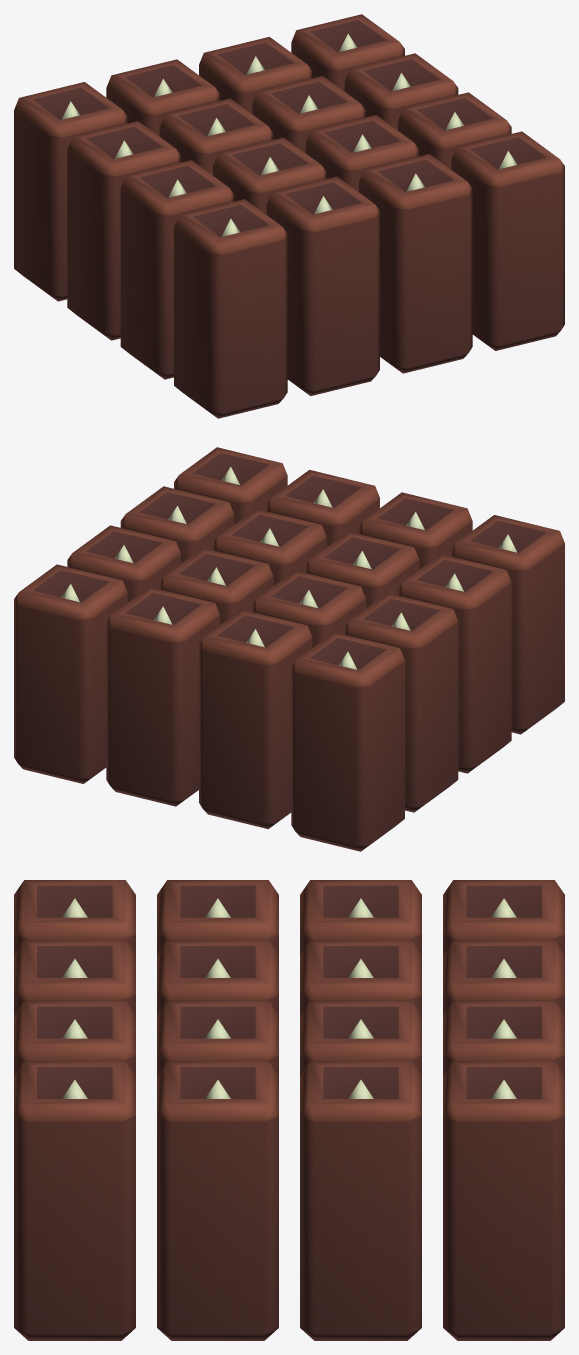
The model's file is spike_trap.fbx.
The picture shows the model from 3 angles, top to bottom: view 1: azimuth 30°, elevation 25°; view 2: azimuth 150°, elevation 25°; view 3: azimuth 270°, elevation 25°; orthographic projection. The views are drawn at different scales.
Visible parts, largest first — view 1: spike_trap, spikes; view 2: spike_trap, spikes; view 3: spike_trap, spikes.
Part boxes in pixels (x1,y1,x2,y2): spike_trap: [14, 14, 564, 418]; spikes: [61, 34, 517, 236]; spike_trap: [14, 447, 564, 851]; spikes: [61, 467, 517, 669]; spike_trap: [14, 880, 564, 1340]; spikes: [62, 898, 516, 1098].
Bounding box in the file's own units: 193 × 93.25 × 193.
